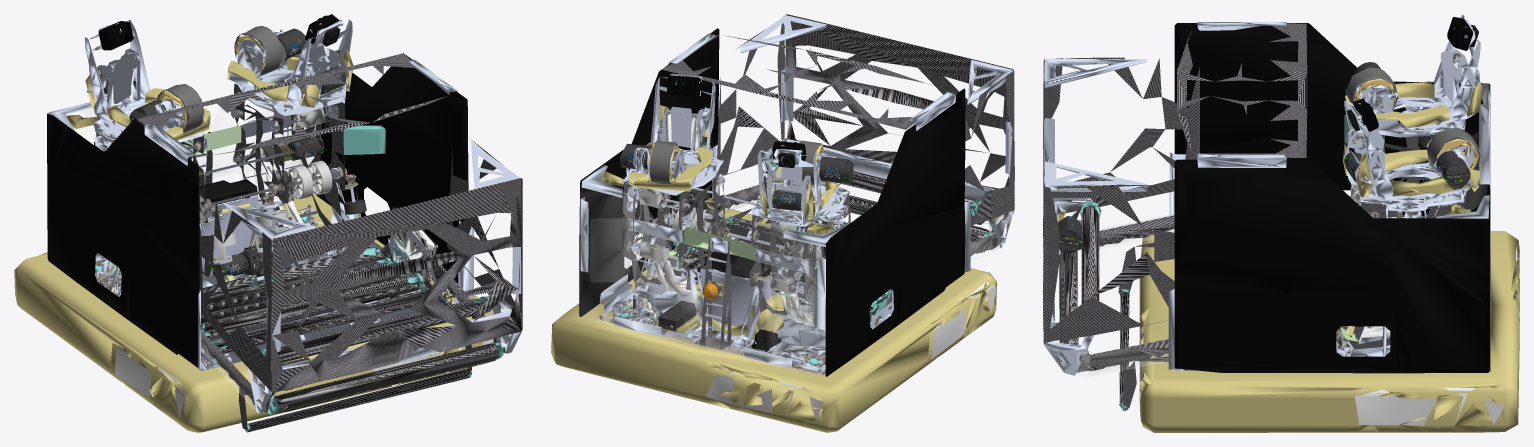
File: nexus-web.glb
3 renders of one model, left to right at view 1: azimuth 30°, elevation 25°; view 2: azimuth 150°, elevation 25°; view 3: azimuth 270°, elevation 25°, orthographic. The views are drawn at different scales.
Size of the model in its own units: 0.847 by 0.7578 by 1.06.
161 materials, 17 textured.
